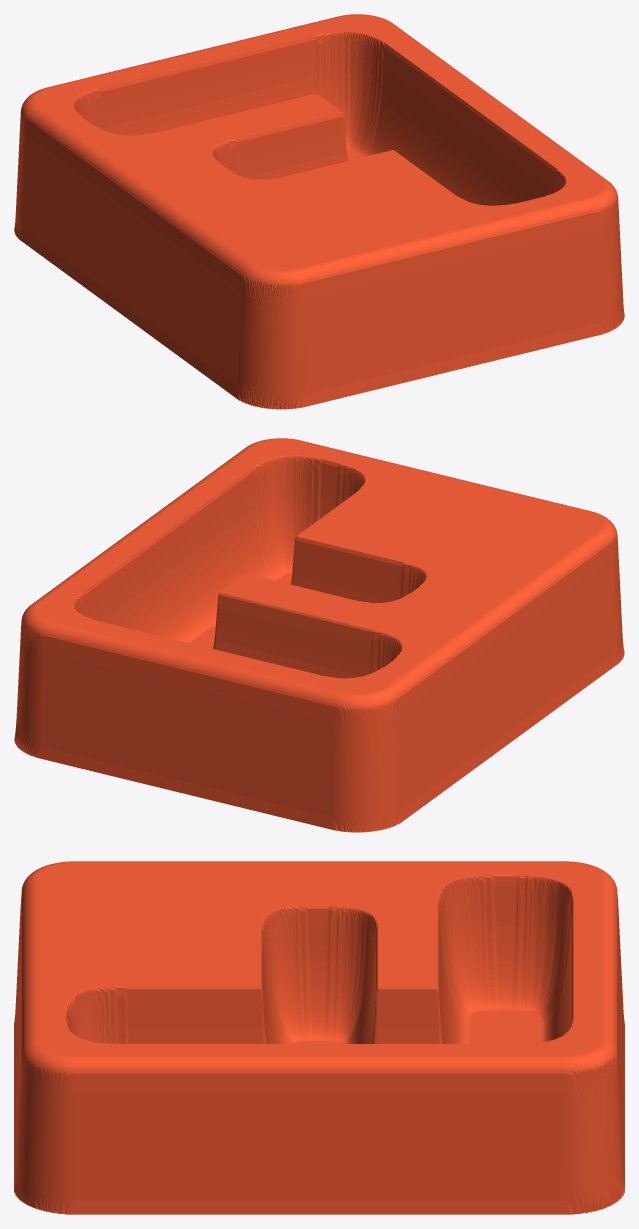
File: mold.glb
3 renders of one model, top to bottom at view 1: azimuth 30°, elevation 25°; view 2: azimuth 150°, elevation 25°; view 3: azimuth 270°, elevation 25°, orthographic. The views are drawn at different scales.
Visible parts, largest first — view 1: geometry_0; view 2: geometry_0; view 3: geometry_0.
Boxes of the visible parts, box(x1,y1,x2,y2) form: geometry_0: box(14, 14, 624, 409); geometry_0: box(14, 438, 624, 832); geometry_0: box(14, 861, 624, 1214).
Bounding box in the file's own units: 0.0762 × 0.0248 × 0.0924.
